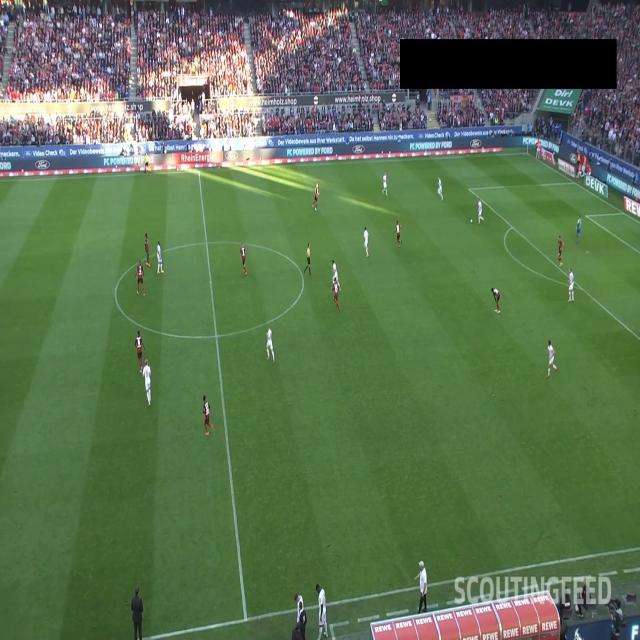ball: (470, 218, 473, 224)
